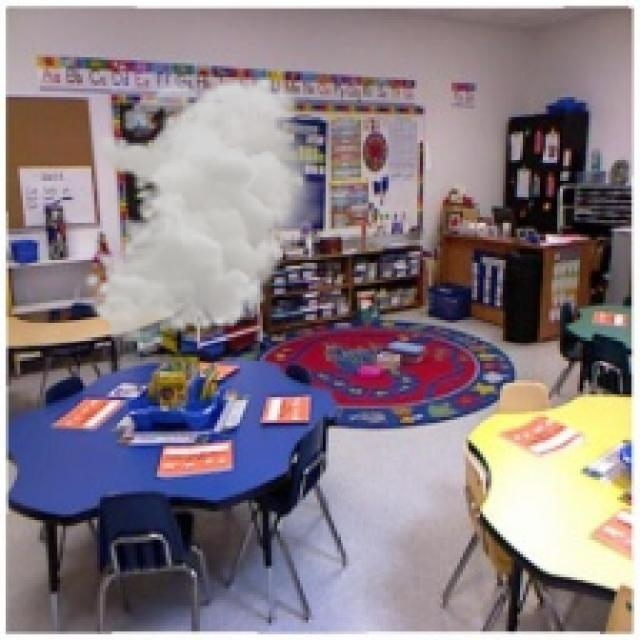smoke: (83, 74, 331, 343)
